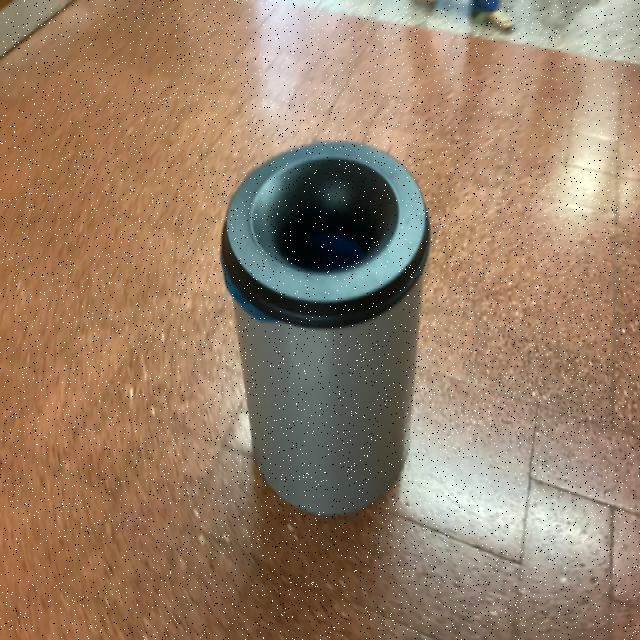garbage container: (174, 106, 447, 526)
